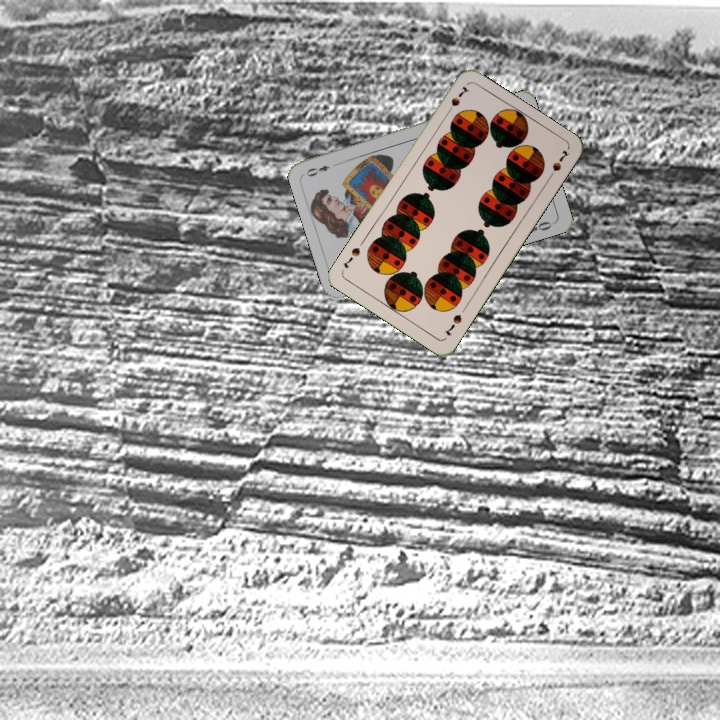S7: (442, 82, 472, 117), (440, 310, 464, 338)
